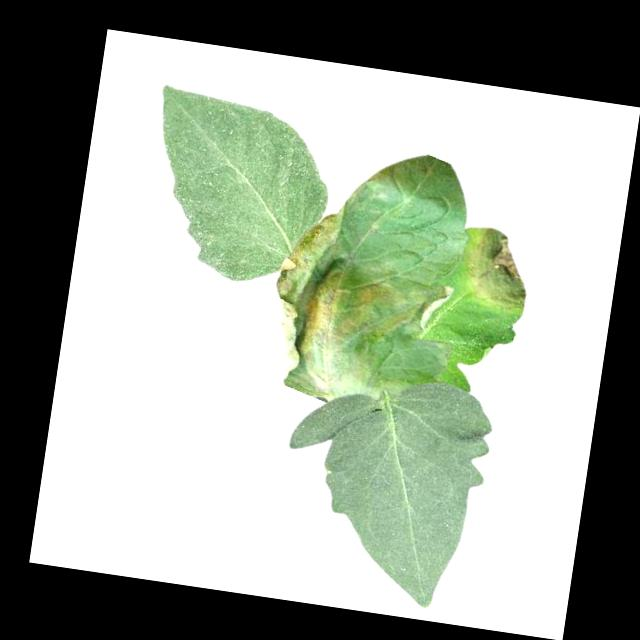Late_blight: (260, 196, 379, 404), (455, 223, 537, 314), (415, 279, 453, 338)
healthy: (270, 363, 501, 615), (136, 84, 343, 291)
